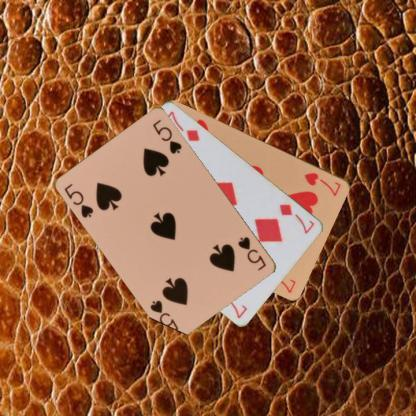5s: (235, 234, 268, 272), (62, 181, 95, 219)
7d: (277, 201, 316, 235)
7h: (302, 170, 342, 197)
